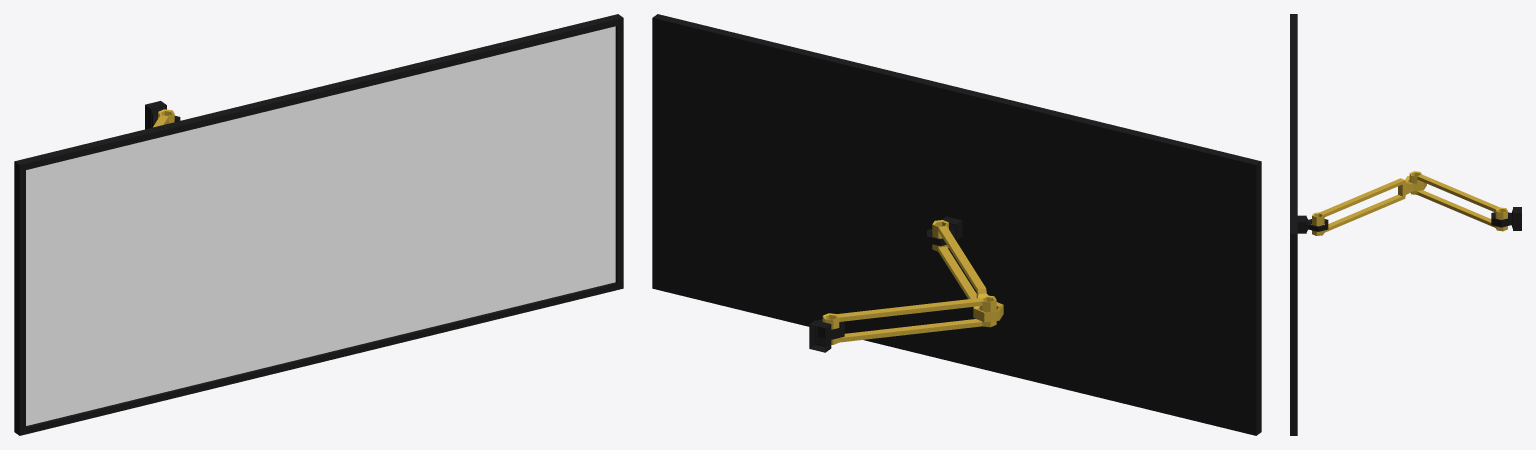
Rendered from monitor_flat.glb.
3 renders of one model, left to right at view 1: azimuth 30°, elevation 25°; view 2: azimuth 150°, elevation 25°; view 3: azimuth 270°, elevation 25°, orthographic. The views are drawn at different scales.
Visible parts, largest first — view 1: Cube.005; view 2: Cube.005; view 3: Cube.005.
Boxes of the visible parts, <box> form: Cube.005: <box>14,14,623,435</box>; Cube.005: <box>652,14,1261,435</box>; Cube.005: <box>1290,14,1521,435</box>.
Size of the model in its own units: 4 by 1.72 by 1.79.
